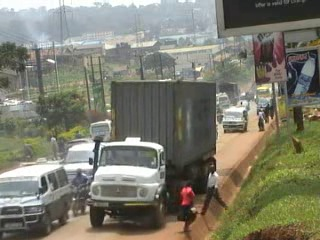Car: (62, 139, 110, 184), (62, 135, 101, 155), (232, 99, 254, 111)
Motorcycle: (68, 169, 91, 216), (216, 105, 226, 126)
